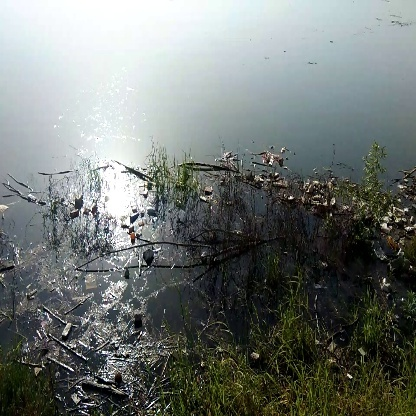branch: (77, 235, 214, 263)
